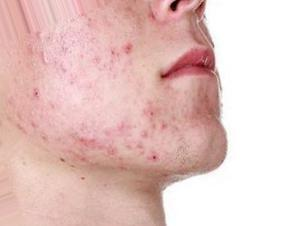Acne: (75, 134, 135, 171), (143, 104, 166, 146), (115, 39, 145, 71), (145, 147, 175, 177), (29, 36, 53, 67), (113, 114, 137, 138), (64, 40, 73, 69)
